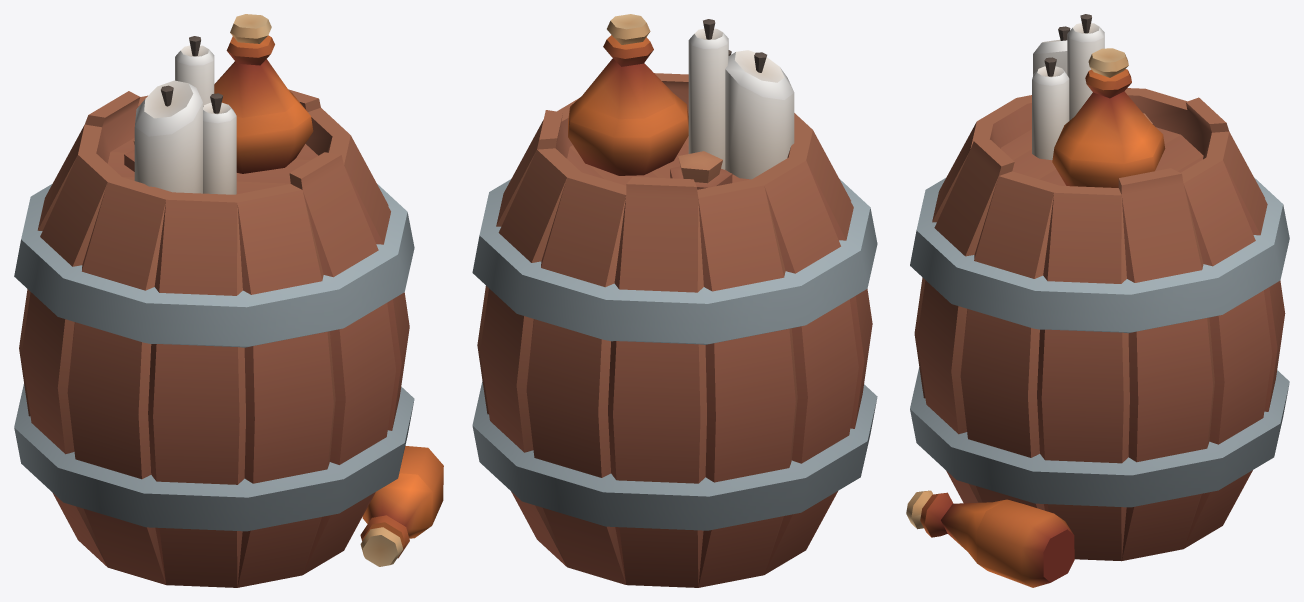
The model's file is barrel_large_decorated.glb.
The picture shows the model from 3 angles, left to right: view 1: azimuth 30°, elevation 25°; view 2: azimuth 150°, elevation 25°; view 3: azimuth 270°, elevation 25°; orthographic projection. The views are drawn at different scales.
Parts seen in each view (by area): view 1: barrel_large_decorated; view 2: barrel_large_decorated; view 3: barrel_large_decorated.
Part boxes in pixels (x1,y1,x2,y2): barrel_large_decorated: (14, 14, 443, 587); barrel_large_decorated: (472, 14, 877, 587); barrel_large_decorated: (906, 14, 1289, 587).
Bounding box in the file's own units: 1.94 × 2.56 × 1.86.
Materials: 1 (1 with a texture image).
